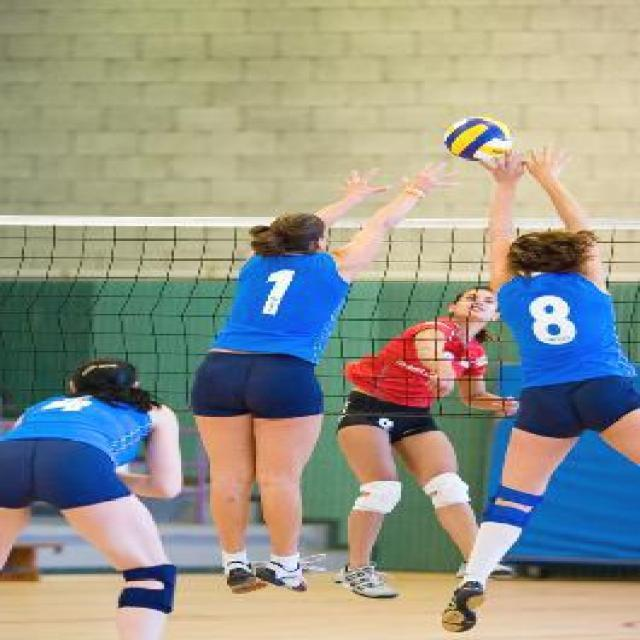volleyball: (444, 116, 512, 160)
